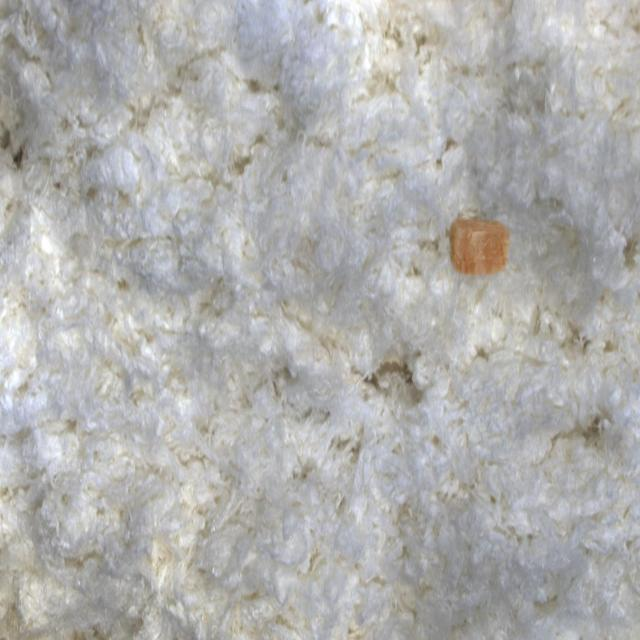dust: (404, 159, 549, 317)
